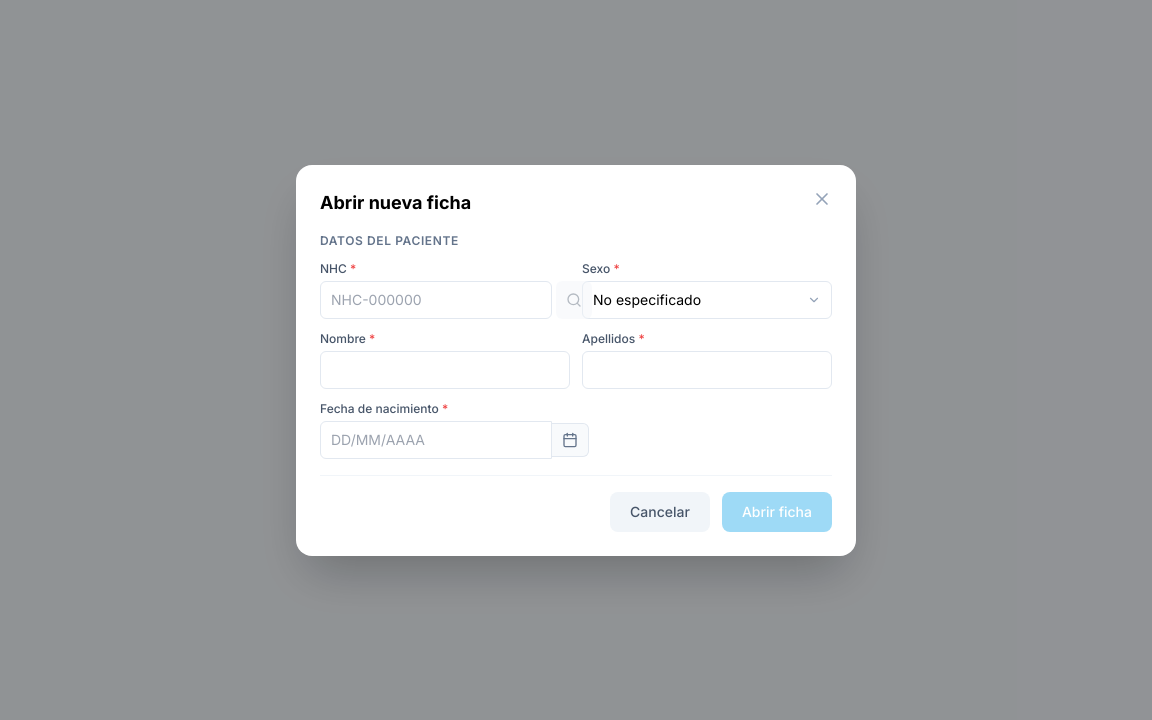
Test: NewPatientModal — Admin mode › [KAN-100] shows "reopen" option for inactive patient
Type "NHC-005" into the field with placeholder "NHC-000000". click: (436, 300)
box: [320, 280, 552, 318]
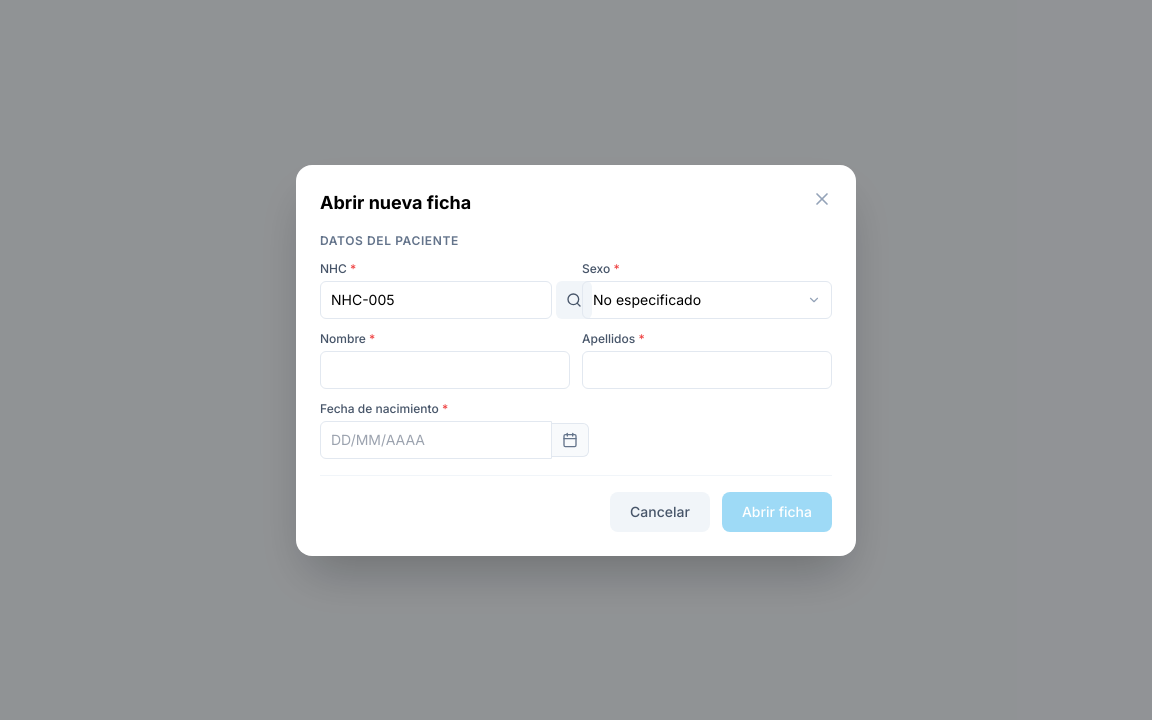
Click the button titled "Buscar paciente por NHC". click: (574, 300)
box: [556, 280, 592, 318]
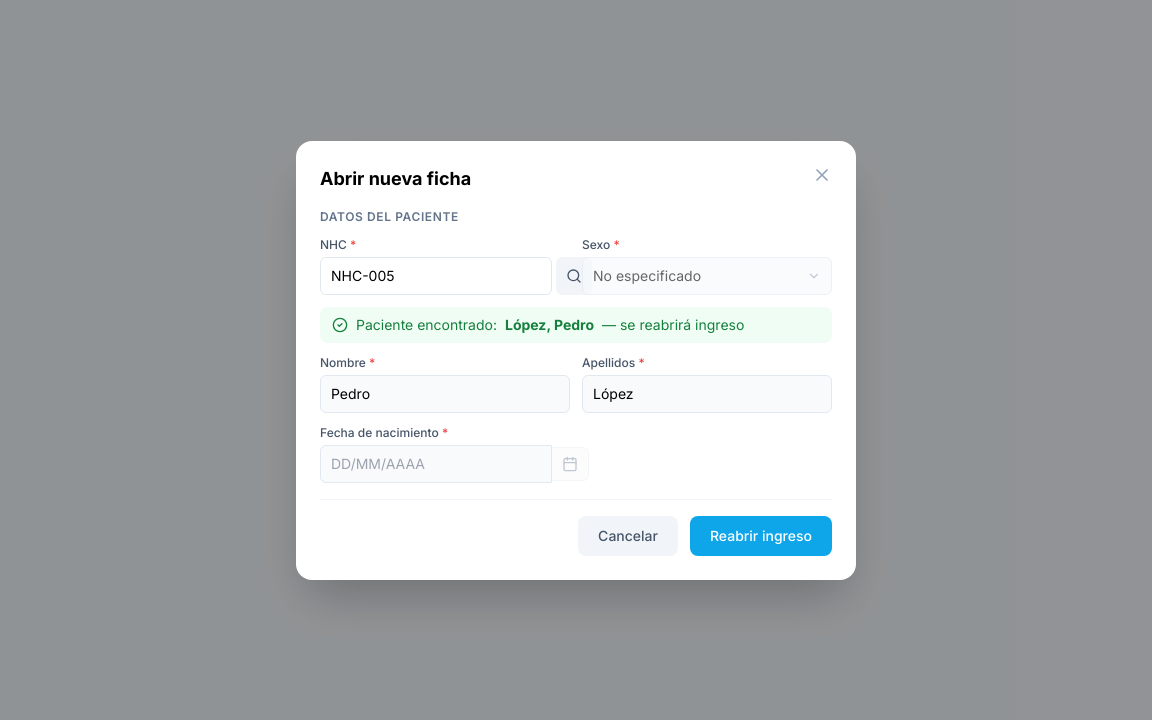
Expected: the text "Paciente encontrado: López, Pedro — se reabrirá ingreso" is shown, [320, 306, 832, 342]
Expected: the button "Reabrir ingreso" is shown, [690, 516, 832, 556]
